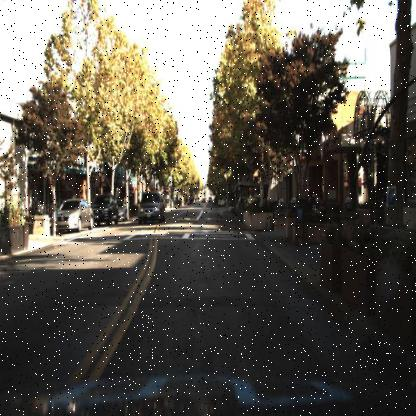car: (56, 196, 96, 235), (52, 198, 95, 233), (136, 189, 166, 225), (92, 191, 119, 227), (137, 192, 164, 222), (93, 192, 118, 224)
